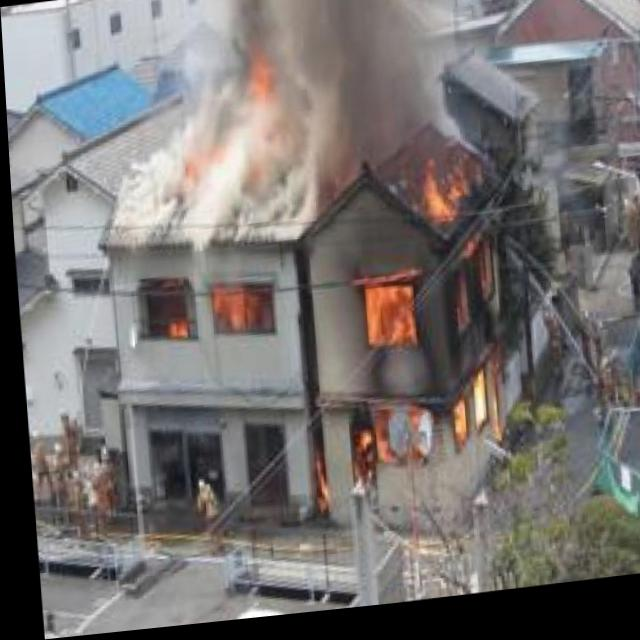Fire: (326, 126, 528, 485), (153, 68, 280, 196), (127, 271, 280, 356)
